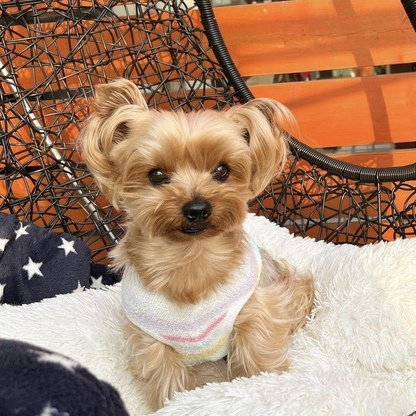yorkshire: (77, 77, 315, 374)
